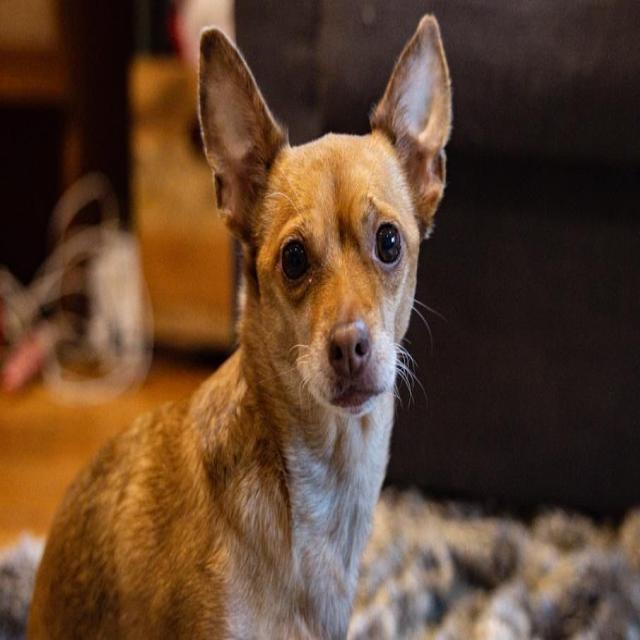chihuahua_dog: (169, 8, 485, 486)
